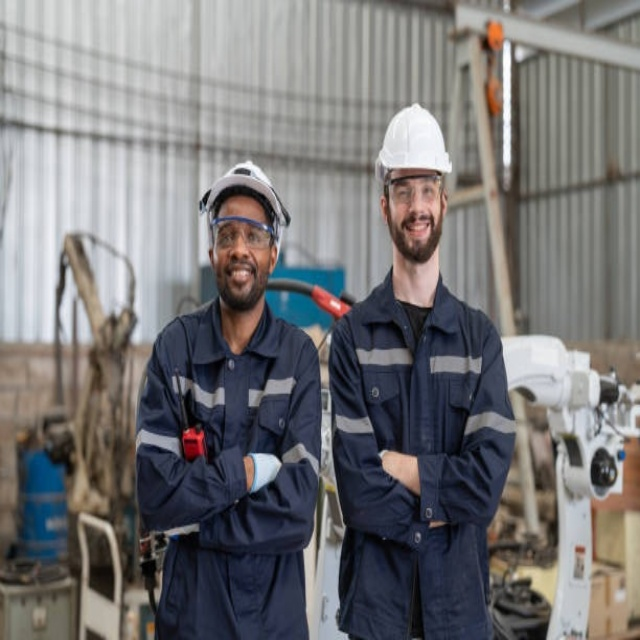Gafas: (209, 221, 277, 253), (385, 173, 444, 202)
Sin_mascara: (401, 213, 437, 248), (222, 259, 259, 293)
